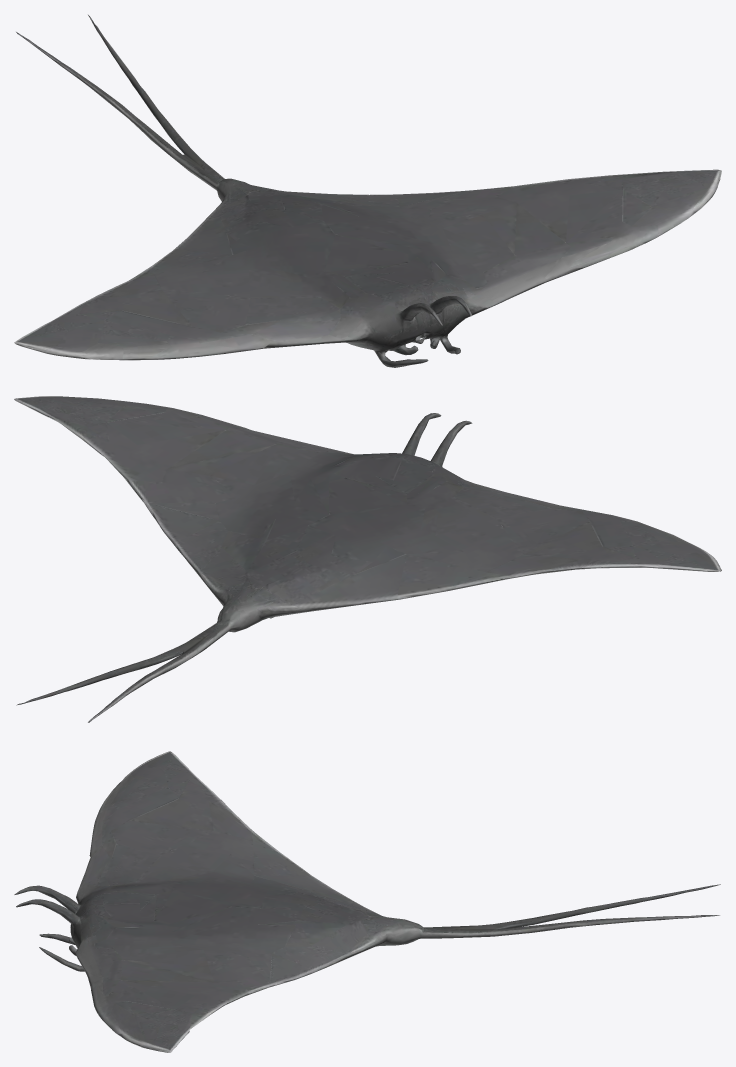
The picture shows the model from 3 angles, top to bottom: view 1: azimuth 30°, elevation 25°; view 2: azimuth 150°, elevation 25°; view 3: azimuth 270°, elevation 25°; orthographic projection. The views are drawn at different scales.
Bounding box in the file's own units: 1.88 × 0.1921 × 1.87.
Materials: 1 (1 with a texture image).
